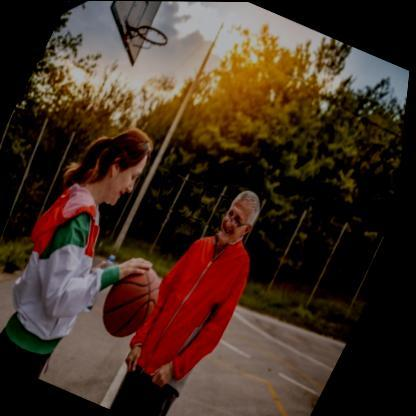basketball: (96, 259, 175, 345)
